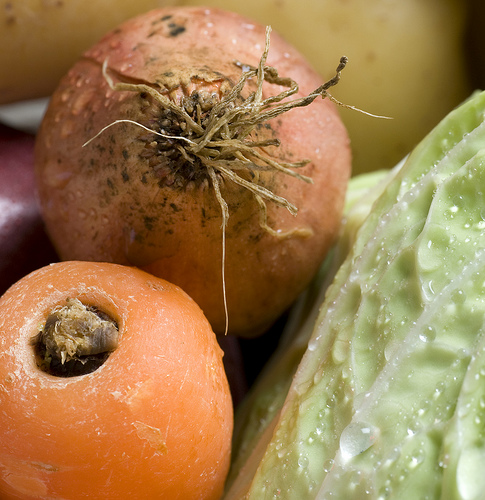onion: (36, 5, 350, 340)
